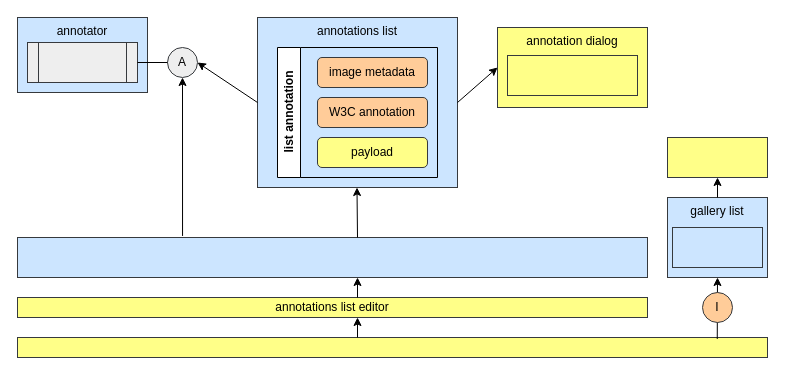
This 785x375 diagram has some shape labels left out. The shapes that lost their labels are listed below. From the top down, each one's centre as x and y in pixels, then its label:
At [82,62]: "Annotorious".
At [572,75]: "annotation editor".
At [717,157]: "gallery service".
At [332,257]: "annotations list editor base".
At [717,247]: "gallery filter".
At [392,347]: "gallery image annotator".
